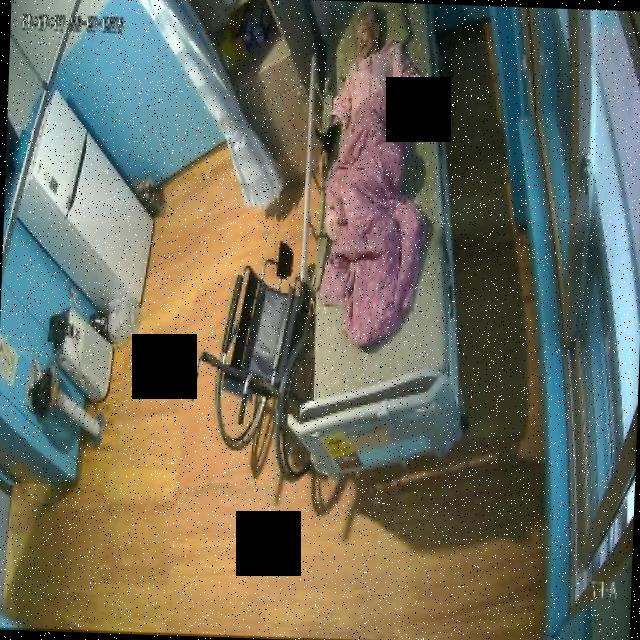bed: (299, 0, 473, 474)
lie: (314, 1, 435, 353)
patient: (316, 1, 433, 156)
